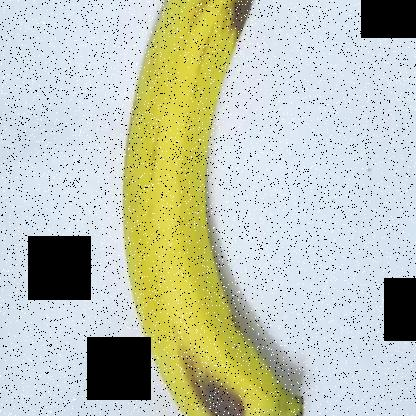freshripe: (109, 1, 340, 415)
